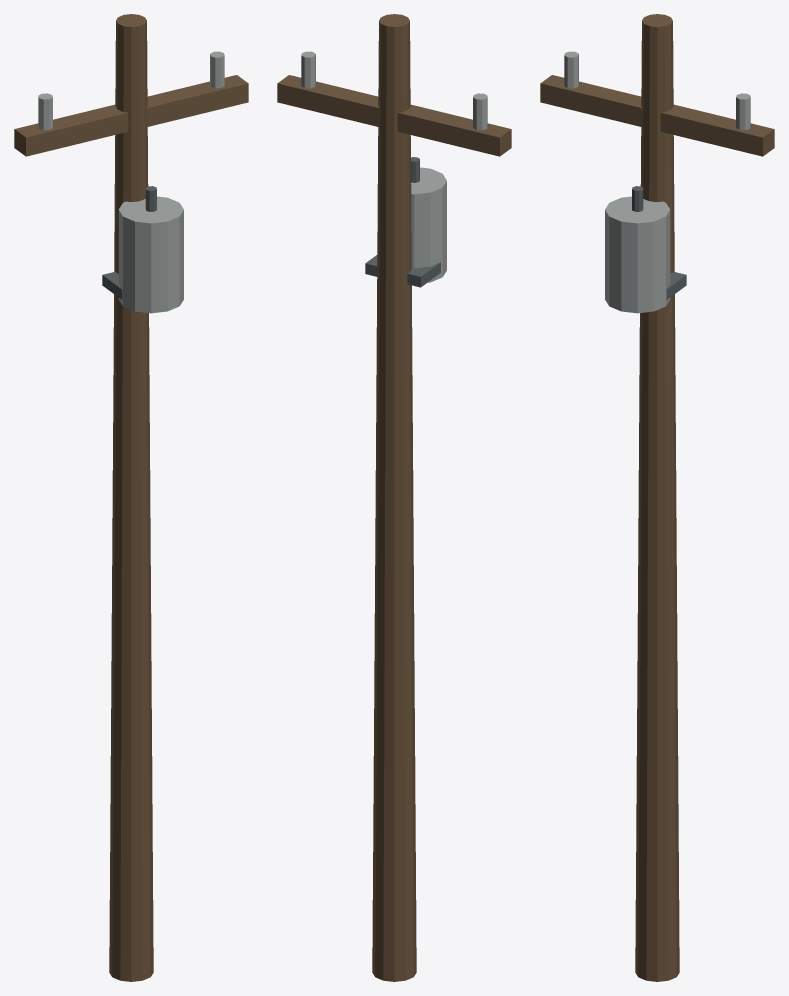
The model's file is utility-pole-transformer.glb.
3 renders of one model, left to right at view 1: azimuth 30°, elevation 25°; view 2: azimuth 150°, elevation 25°; view 3: azimuth 330°, elevation 25°, orthographic.
Visible parts, largest first — view 1: utility-pole-transformer; view 2: utility-pole-transformer; view 3: utility-pole-transformer.
Part boxes in pixels (left/top/right/bottom): utility-pole-transformer: left=14, top=14, right=248, bottom=981; utility-pole-transformer: left=277, top=14, right=511, bottom=981; utility-pole-transformer: left=540, top=14, right=774, bottom=981.
Bounding box in the file's own units: 2.2 × 9 × 0.81.
